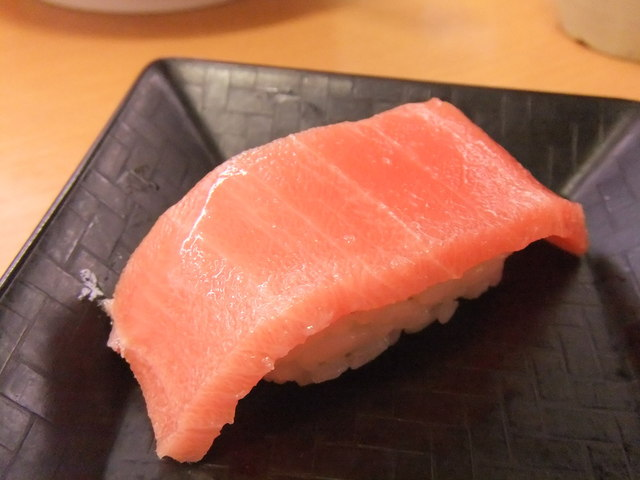medium_fatty_tuna: (95, 97, 596, 464)
